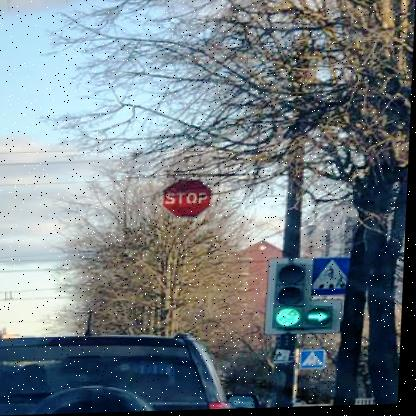Stop Sign: (161, 174, 218, 224)
